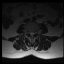CCS_normal: (31, 30, 32, 39)
LFS_normal: (34, 30, 36, 35)
LLS_normal: (32, 31, 34, 36)
RFS_normal: (27, 30, 29, 35)
RLS_normal: (29, 30, 31, 36)
